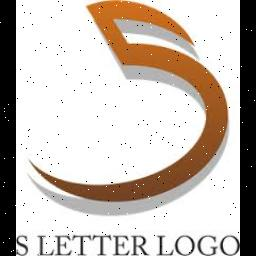s: (17, 230, 31, 256)
